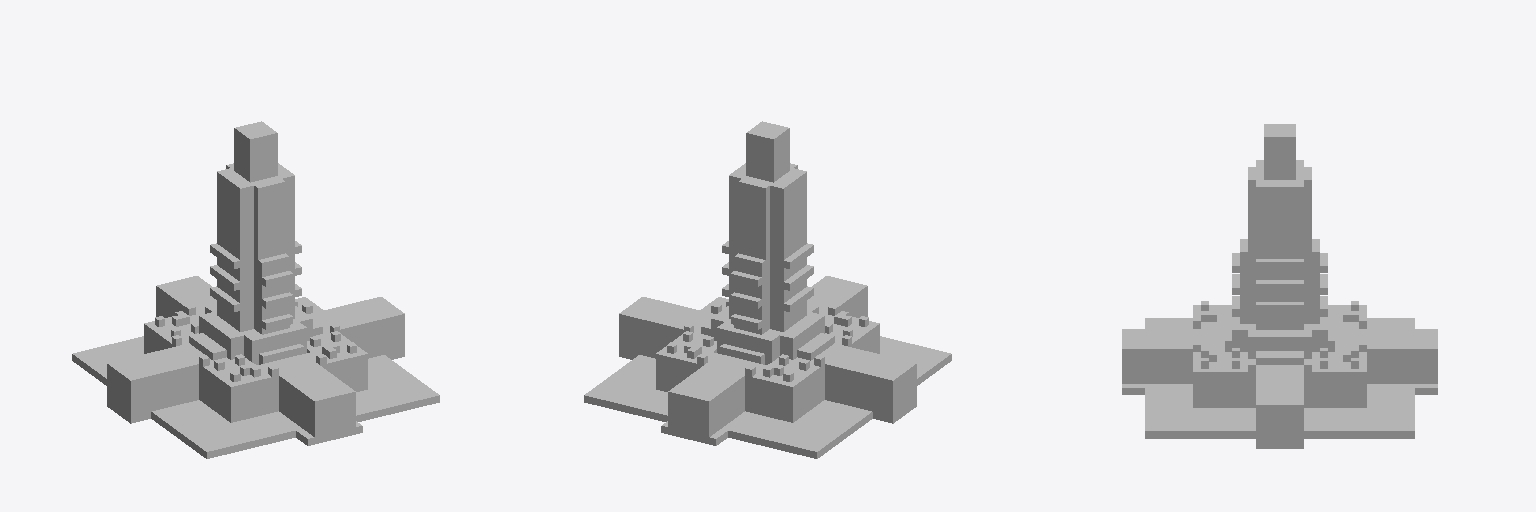
File: Tower Base Rifled Alien.obj
The picture shows the model from 3 angles: view 1: azimuth 30°, elevation 25°; view 2: azimuth 150°, elevation 25°; view 3: azimuth 270°, elevation 25°; orthographic projection.
Visible parts, largest first — view 1: object 1; view 2: object 1; view 3: object 1.
Part boxes in pixels (bbox=[...]): object 1: bbox=[72, 121, 439, 458]; object 1: bbox=[584, 121, 951, 458]; object 1: bbox=[1122, 124, 1437, 448].
Size of the model in its own units: 4 by 3.5 by 4.